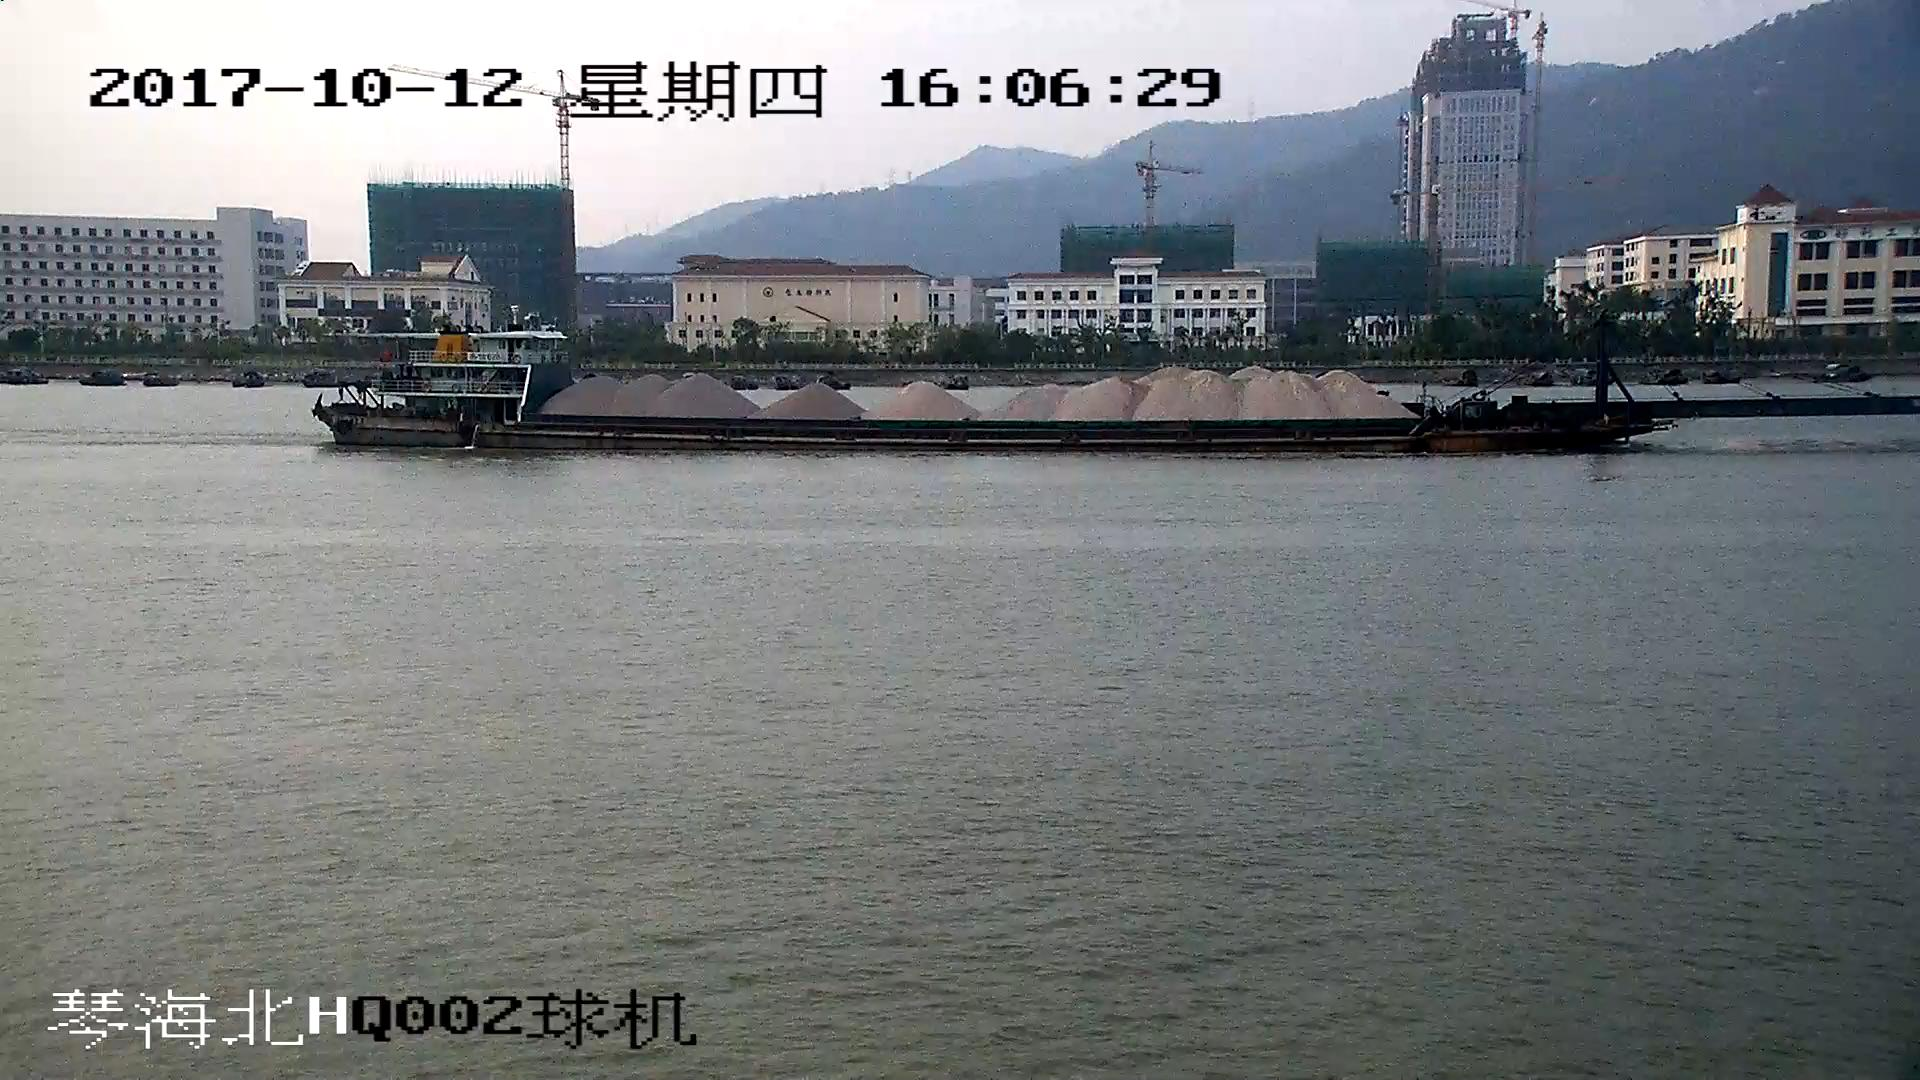ore carrier: (317, 309, 1920, 462)
